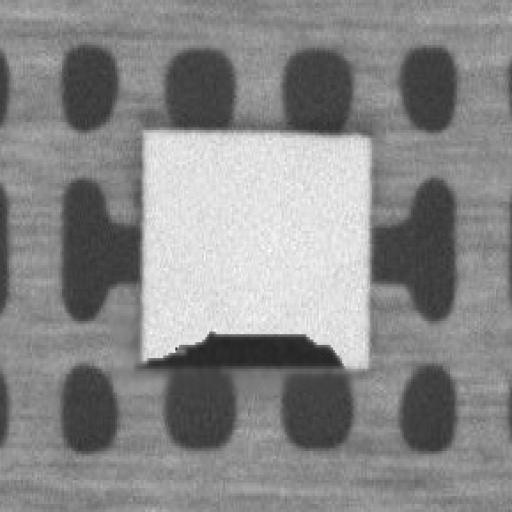DIE_BROKEN: (138, 324, 346, 368)
